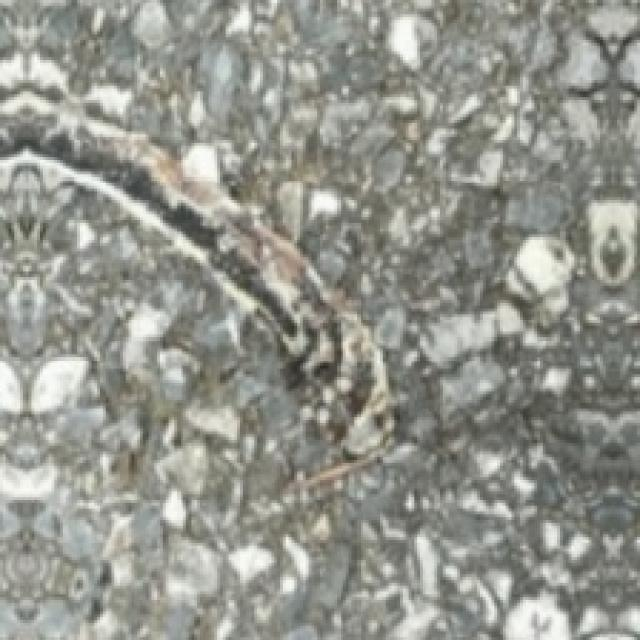king cobra: (0, 3, 391, 463)
